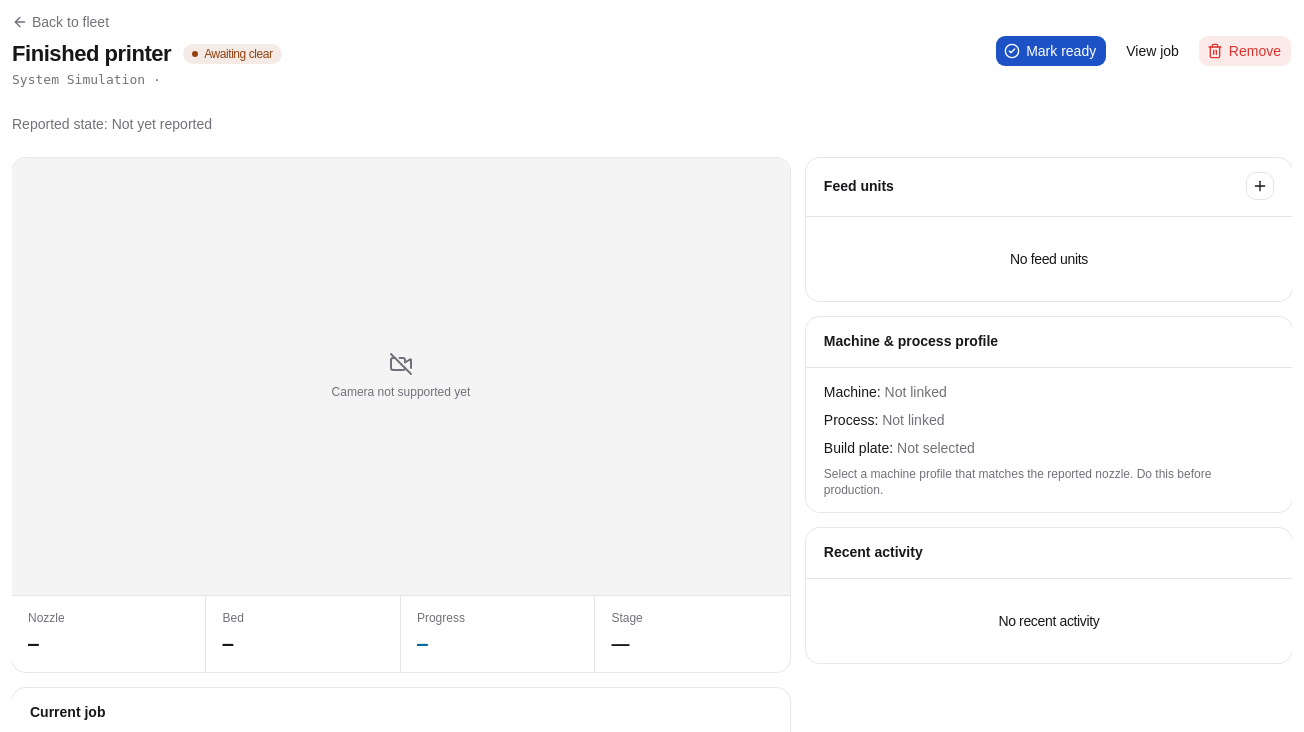
PrinterDetailPage › marks the printer ready in one click, with no run confirmation
Expected: the text "Finished printer" is shown, [12,41,171,66]
Click the button "Mark ready" at (1051, 51), box [995,35,1107,67]
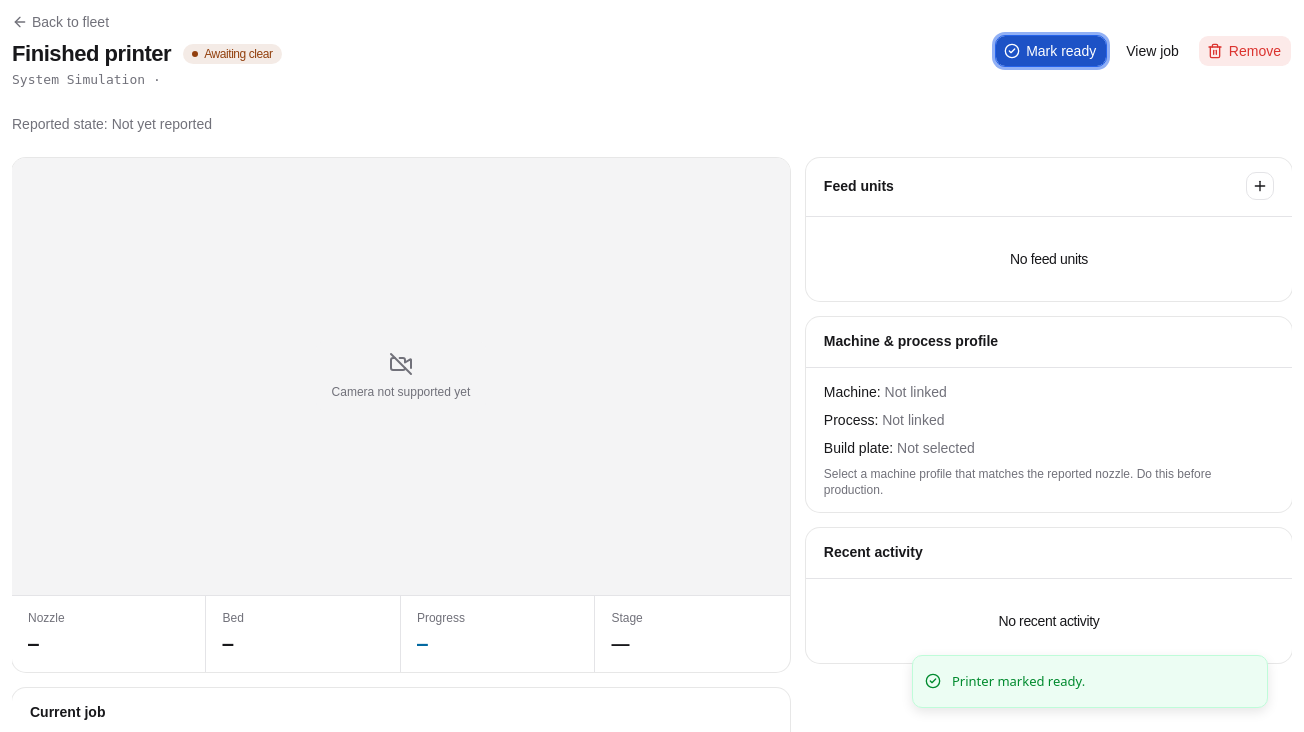
Result: the text "Printer marked ready." is shown at [952,672,1085,691]
